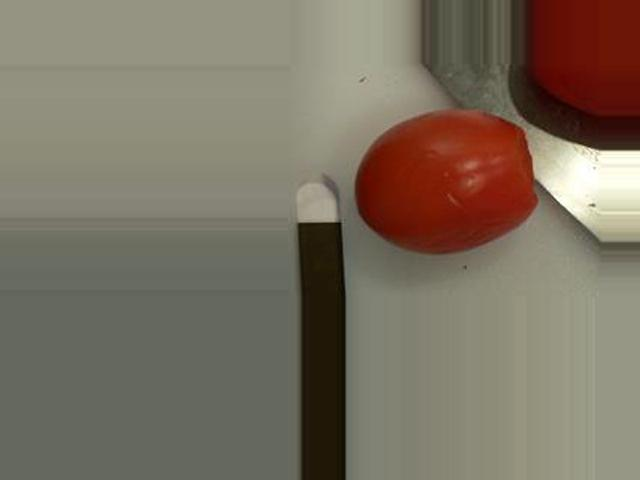tomato: (354, 108, 537, 254)
